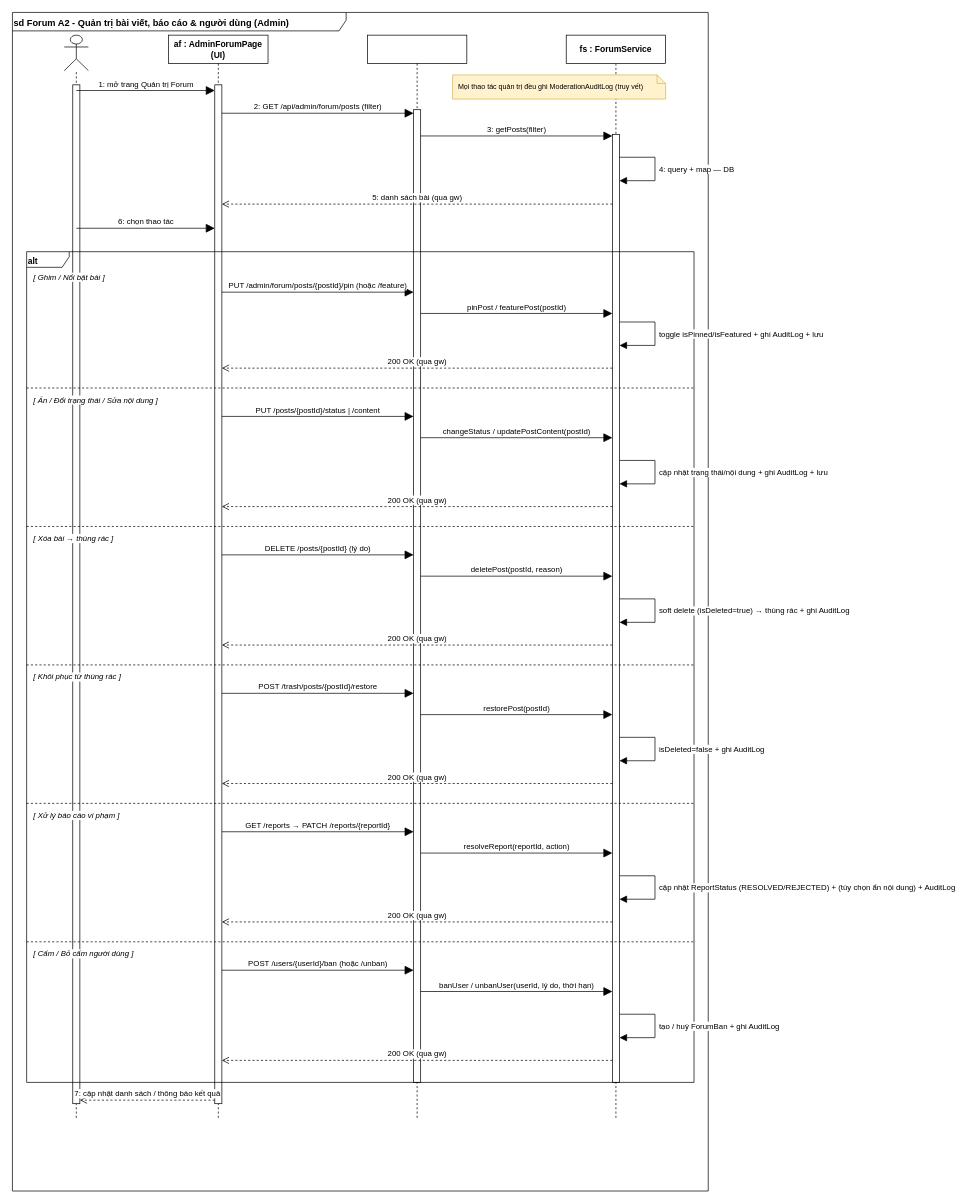
Some shapes in this 968 by 1203 pixel diagram are drawn without their labels. Each missing label, with the box of its shape:
Admin: (64, 34, 88, 71)
gw : ApiGateway: (367, 34, 467, 1118)
